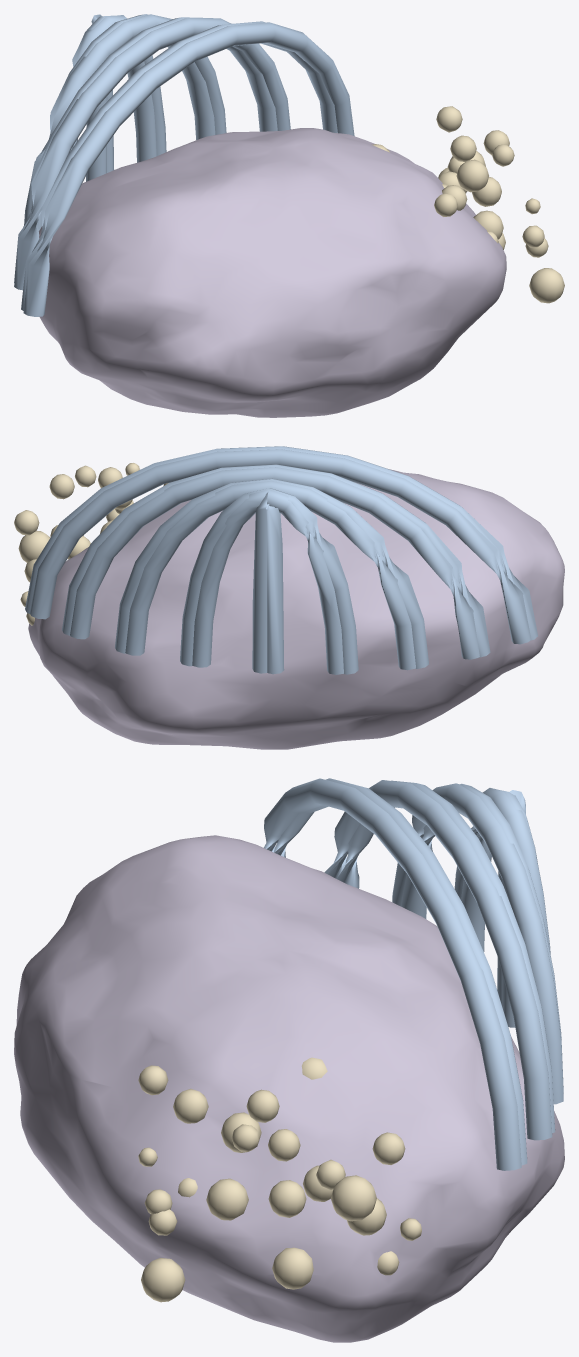
Rendered from landmark_giant_carcass.glb.
The picture shows the model from 3 angles, top to bottom: view 1: azimuth 30°, elevation 25°; view 2: azimuth 150°, elevation 25°; view 3: azimuth 270°, elevation 25°; orthographic projection. The views are drawn at different scales.
Parts seen in each view (by area): view 1: Landmark; view 2: Landmark; view 3: Landmark.
Boxes of the visible parts, <box> form: Landmark: <box>14,14,564,417</box>; Landmark: <box>14,446,564,749</box>; Landmark: <box>14,778,564,1342</box>.
Bounding box in the file's own units: 4.79 × 3.07 × 3.68.
